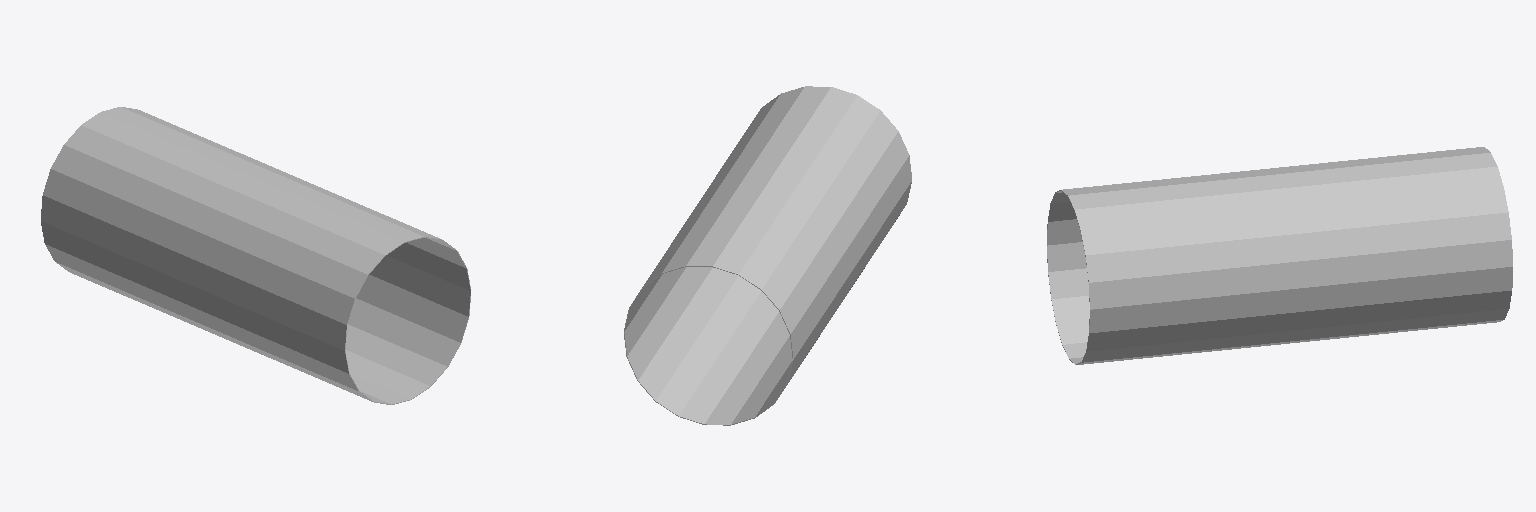
Rendered from thick-cylinder-transverse1.obj.
3 renders of one model, left to right at view 1: azimuth 30°, elevation 25°; view 2: azimuth 150°, elevation 25°; view 3: azimuth 270°, elevation 25°, orthographic.
Visible parts, largest first — view 1: pPipe1; view 2: pPipe1; view 3: pPipe1.
Boxes of the visible parts, box(x1,y1,x2,y2) form: pPipe1: box(41, 107, 470, 404); pPipe1: box(624, 86, 911, 425); pPipe1: box(1047, 147, 1512, 364).
Bounding box in the file's own units: 22.69 × 14.59 × 38.04.